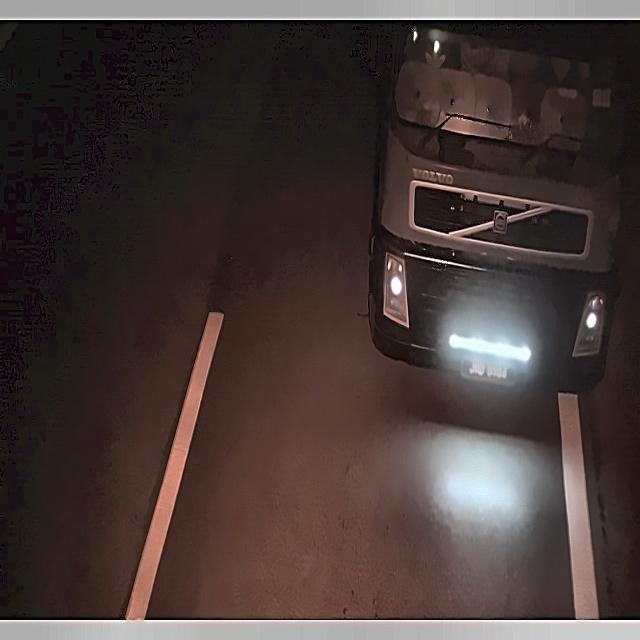car: (458, 351, 522, 389)
